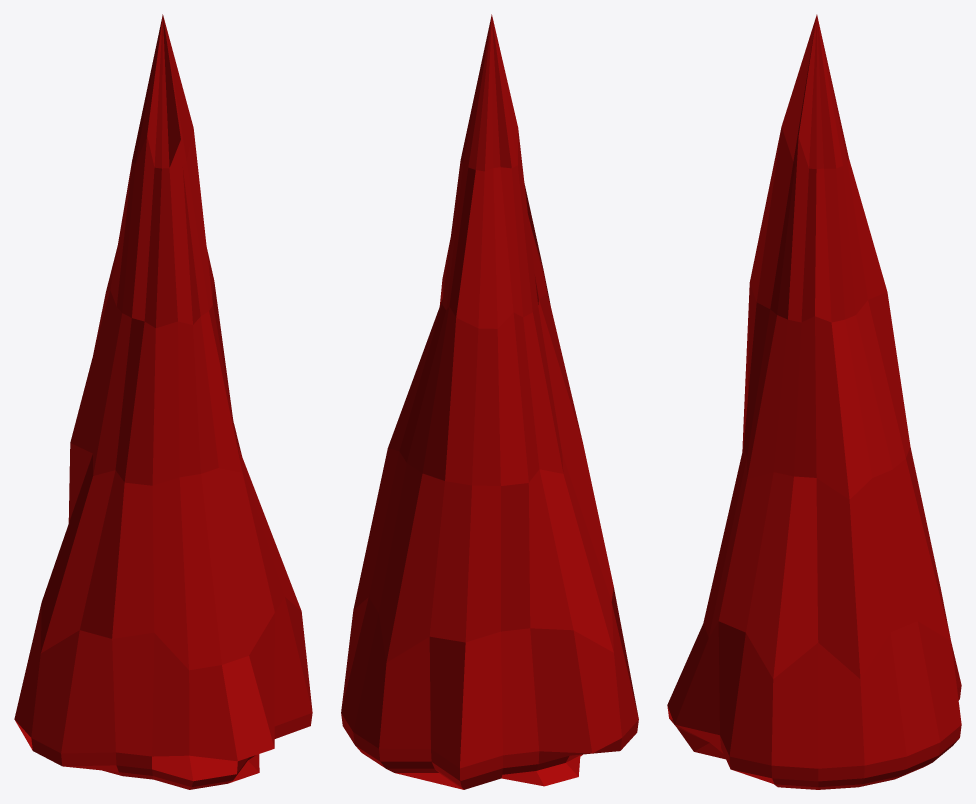
Rendered from spike8.fbx.
The picture shows the model from 3 angles, left to right: view 1: azimuth 30°, elevation 25°; view 2: azimuth 150°, elevation 25°; view 3: azimuth 270°, elevation 25°; orthographic projection.
Parts seen in each view (by area): view 1: pCone8; view 2: pCone8; view 3: pCone8.
Boxes of the visible parts, x1,y1,x2,y2 form: pCone8: [14, 14, 312, 789]; pCone8: [341, 14, 638, 789]; pCone8: [667, 14, 961, 789].
Size of the model in its own units: 58.02 by 153 by 56.6.
